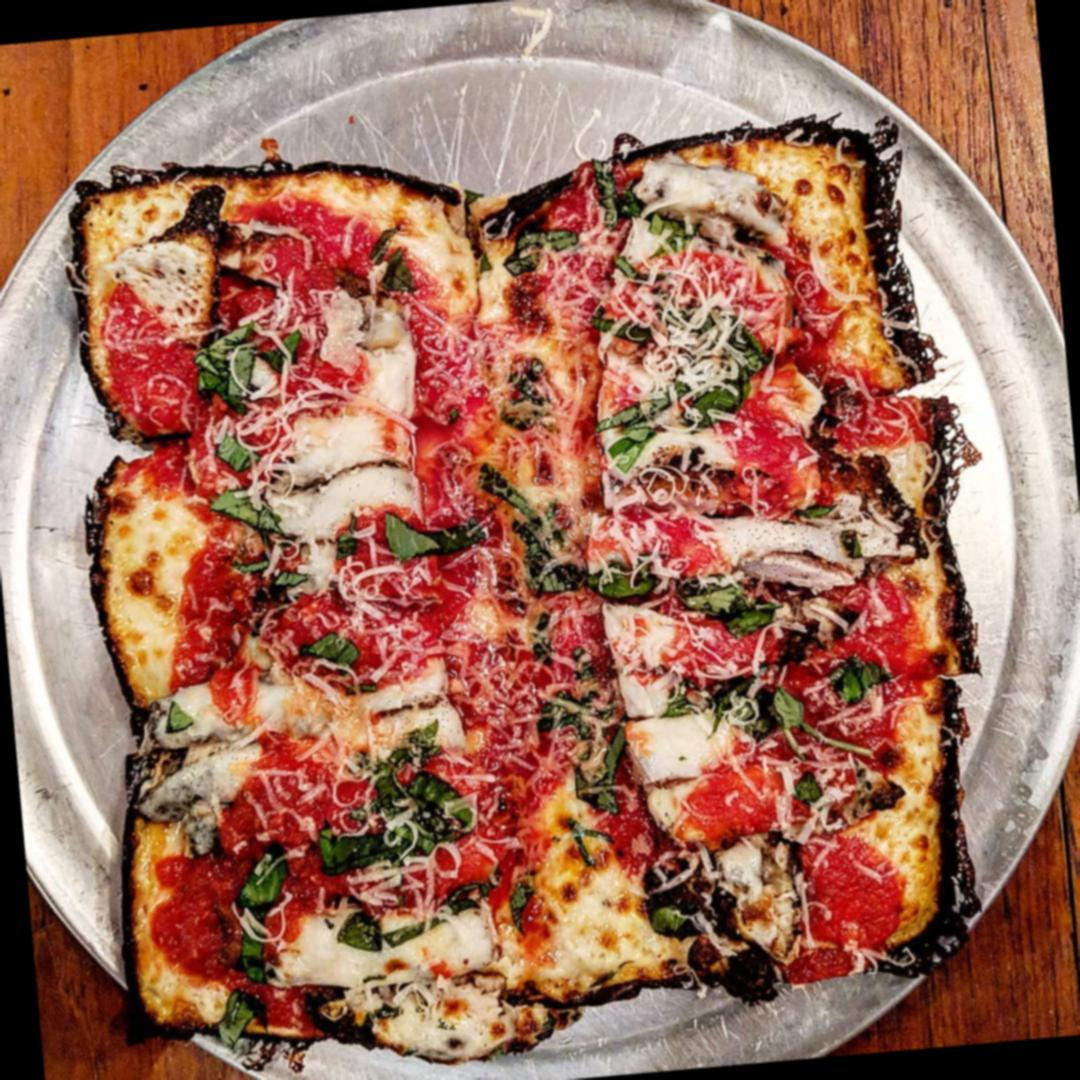Mushroom: (718, 490, 906, 586), (271, 454, 436, 548), (138, 743, 270, 825), (367, 693, 472, 769)
Pizza: (70, 105, 984, 1042)
